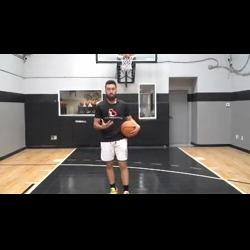BasketBall: (119, 118, 140, 138)
